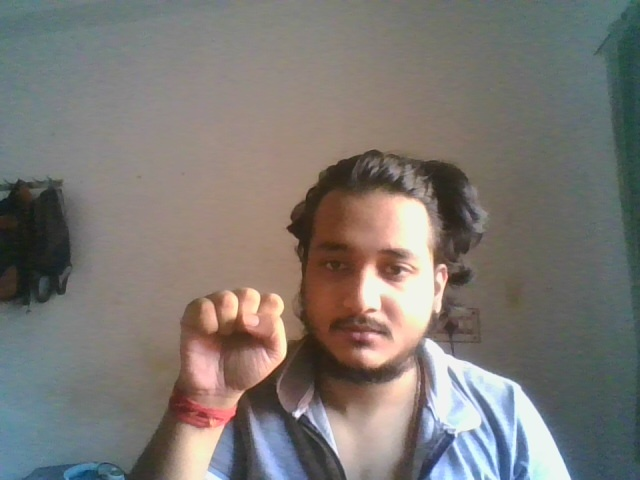Close: (178, 288, 289, 398)
